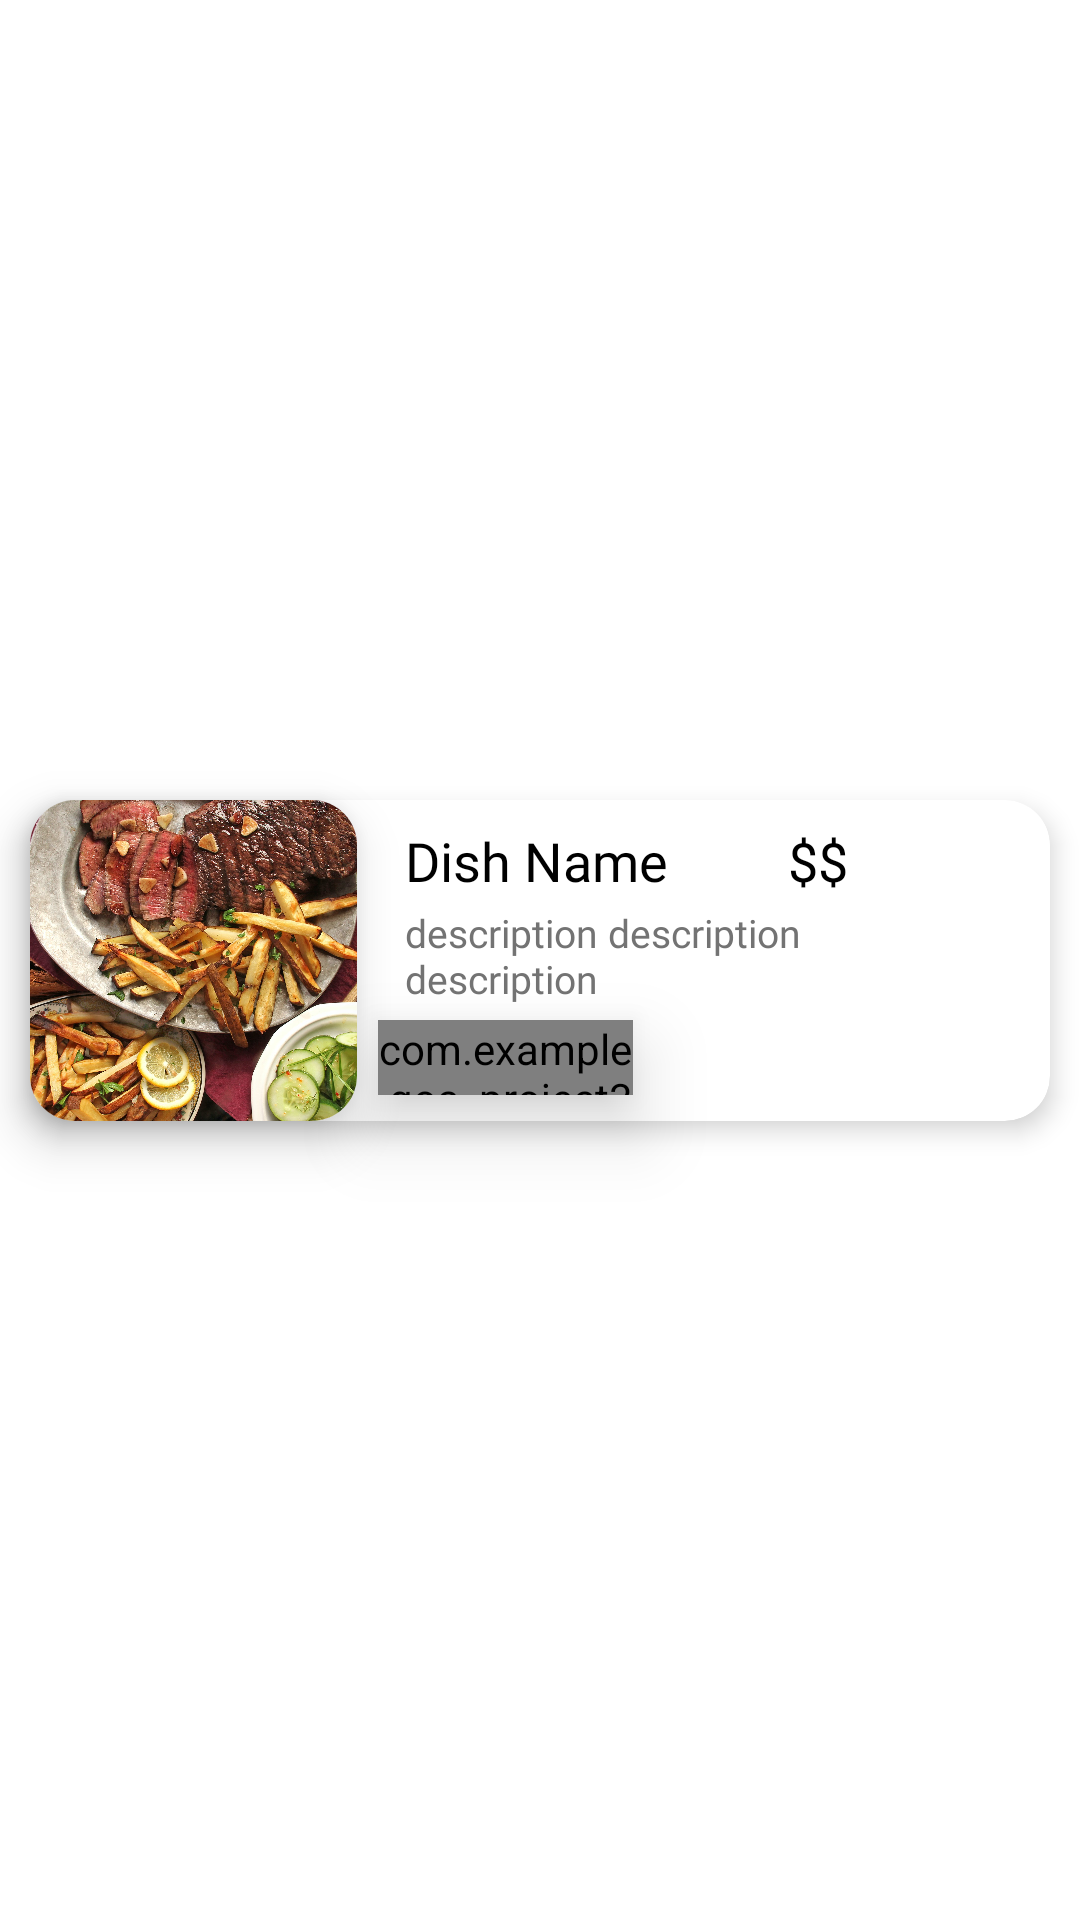

Where icons sit on this 1080px×1920px app screen, as (x1, y1, x2, y2):
steak: (30, 800, 357, 1121)
